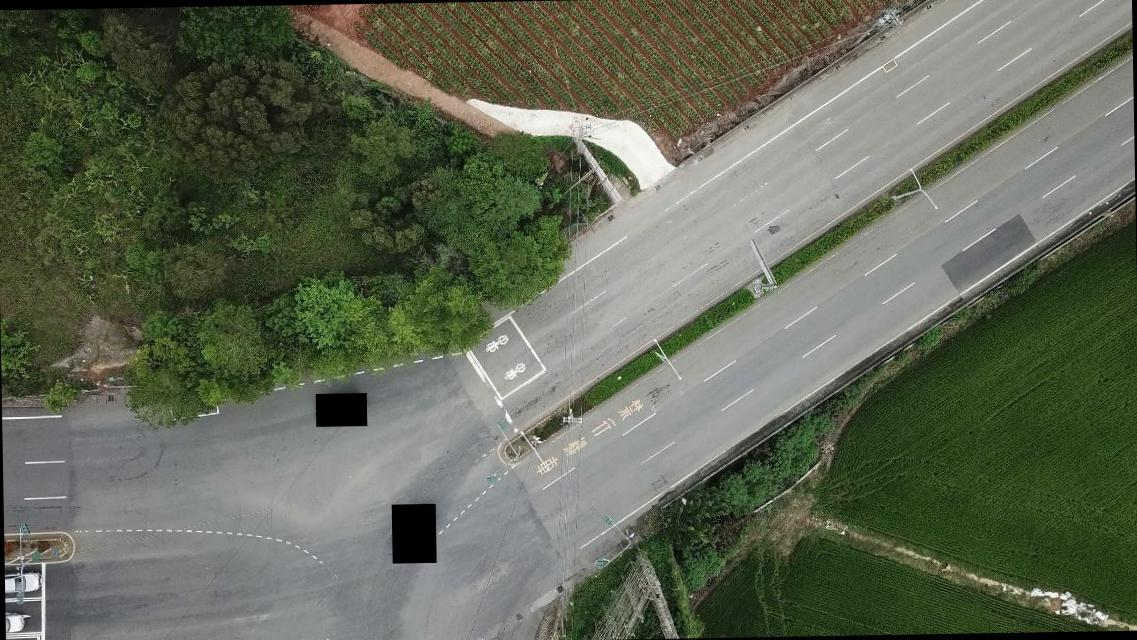vehicle: (4, 571, 42, 595), (5, 614, 24, 634)
